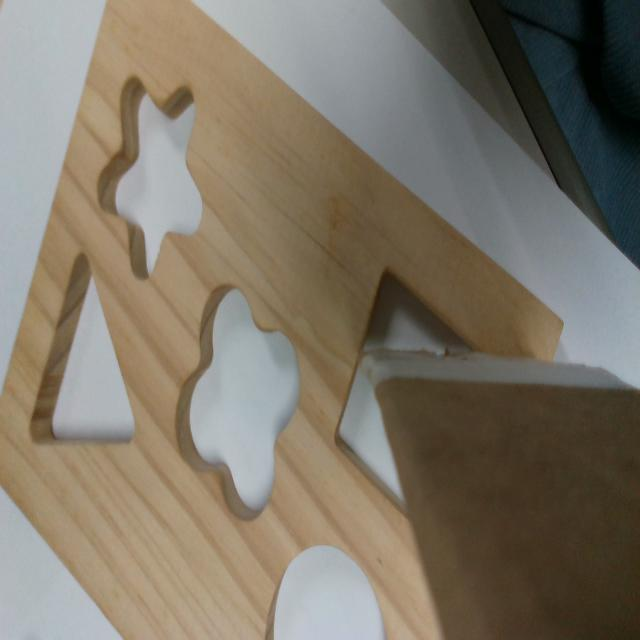circle: (268, 549, 383, 636)
flower: (174, 287, 300, 517)
square: (330, 267, 477, 527)
star: (96, 77, 204, 281)
triangle: (27, 249, 139, 445)
